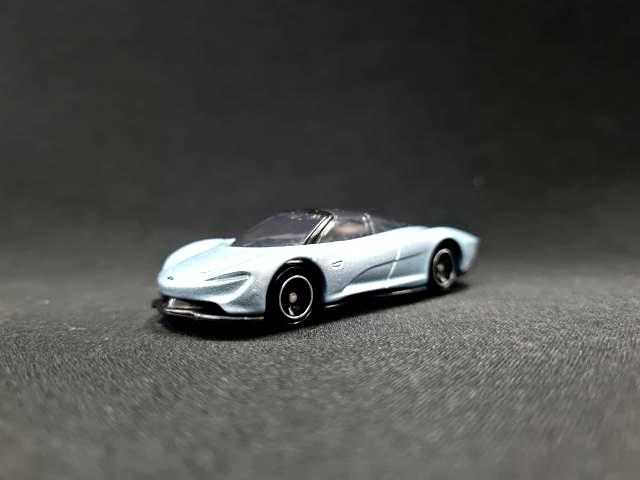toy-car: (151, 208, 481, 331)
